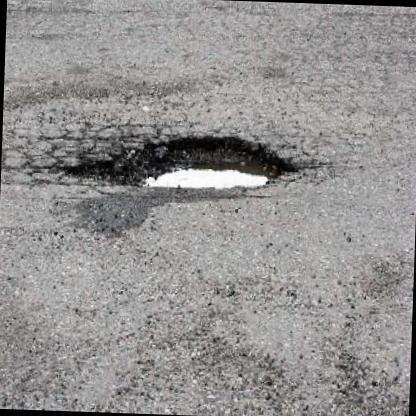pothole: (58, 130, 304, 193)
